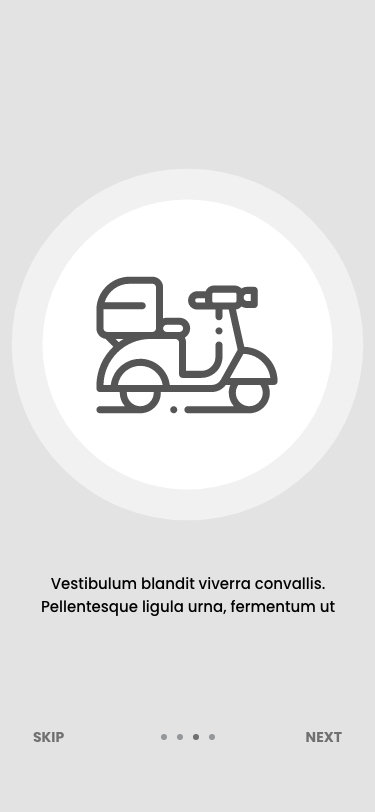Image: (12, 168, 364, 521)
PageIndicator: (160, 733, 216, 741)
Text: (40, 574, 338, 618), (305, 731, 342, 743), (34, 731, 65, 743)
